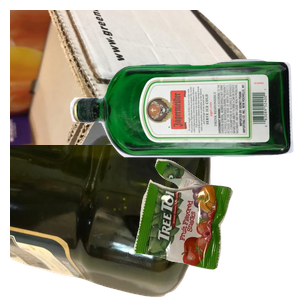cardboard: (10, 10, 250, 190)
glass: (67, 56, 300, 206)
plastic: (10, 145, 213, 300)
trash: (131, 156, 300, 300)
